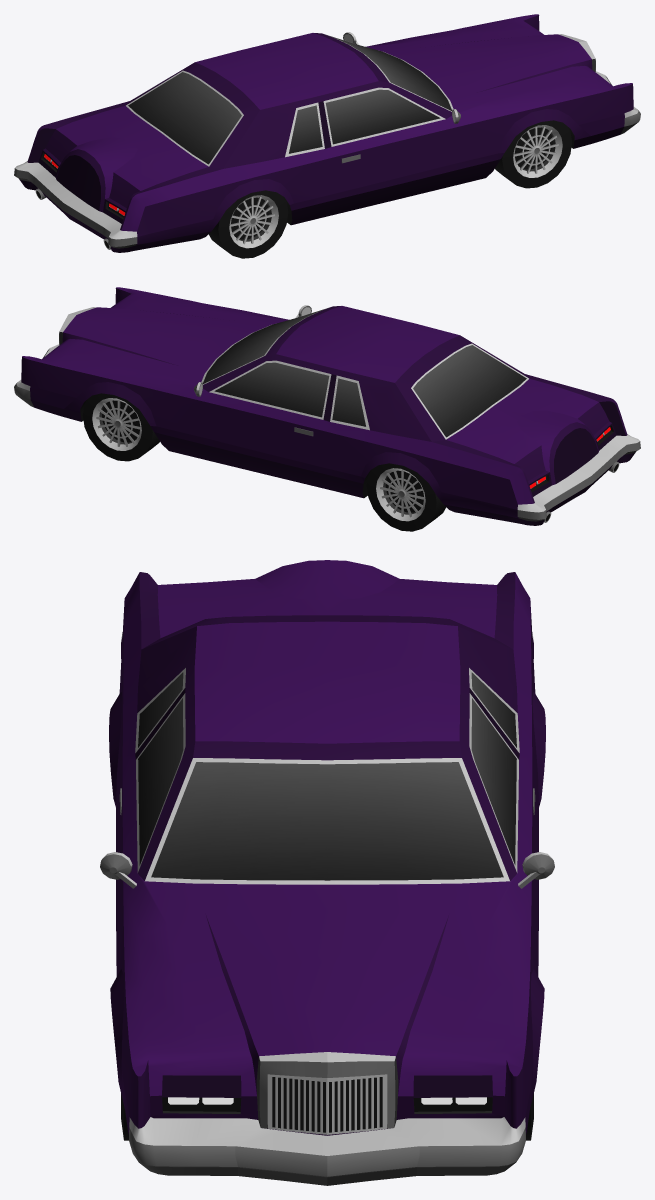
Rendered from Car_073.glb.
3 views of the same model, one above another, from view 1: azimuth 30°, elevation 25°; view 2: azimuth 150°, elevation 25°; view 3: azimuth 270°, elevation 25° (orthographic). The views are drawn at different scales.
Visible parts, largest first — view 1: Car_073, wheel_3_Car_073_Wheel_2R, wheel_1_Car_073_Wheel_1R; view 2: Car_073, wheel_2_Car_073_Wheel_2L, wheel_0_Car_073_Wheel_1L; view 3: Car_073.
Boxes of the visible parts, x1,y1,x2,y2 form: Car_073: (14, 14, 640, 252); wheel_3_Car_073_Wheel_2R: (208, 190, 288, 258); wheel_1_Car_073_Wheel_1R: (495, 120, 571, 188); Car_073: (14, 287, 640, 525); wheel_2_Car_073_Wheel_2L: (366, 463, 446, 531); wheel_0_Car_073_Wheel_1L: (83, 393, 159, 461); Car_073: (100, 560, 554, 1185).
Size of the model in its own units: 5.7 by 1.31 by 2.06.
Materials: 2 (2 with a texture image).
